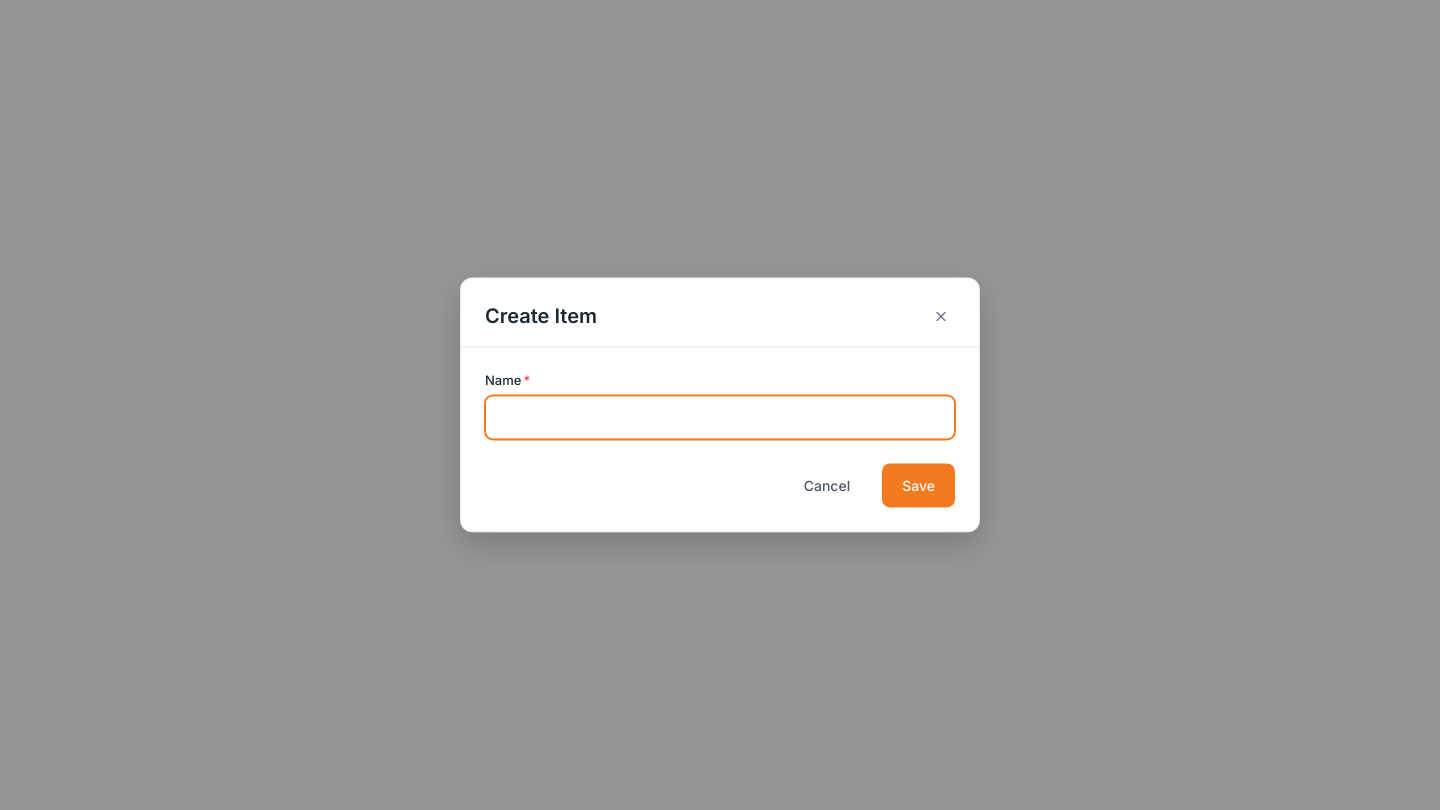
Test: FormModal › form submission › shows validation errors when submitting empty required field
Step 1. Click the button with test id "form-modal-submit" → (919, 486), box [882,464,955,508]
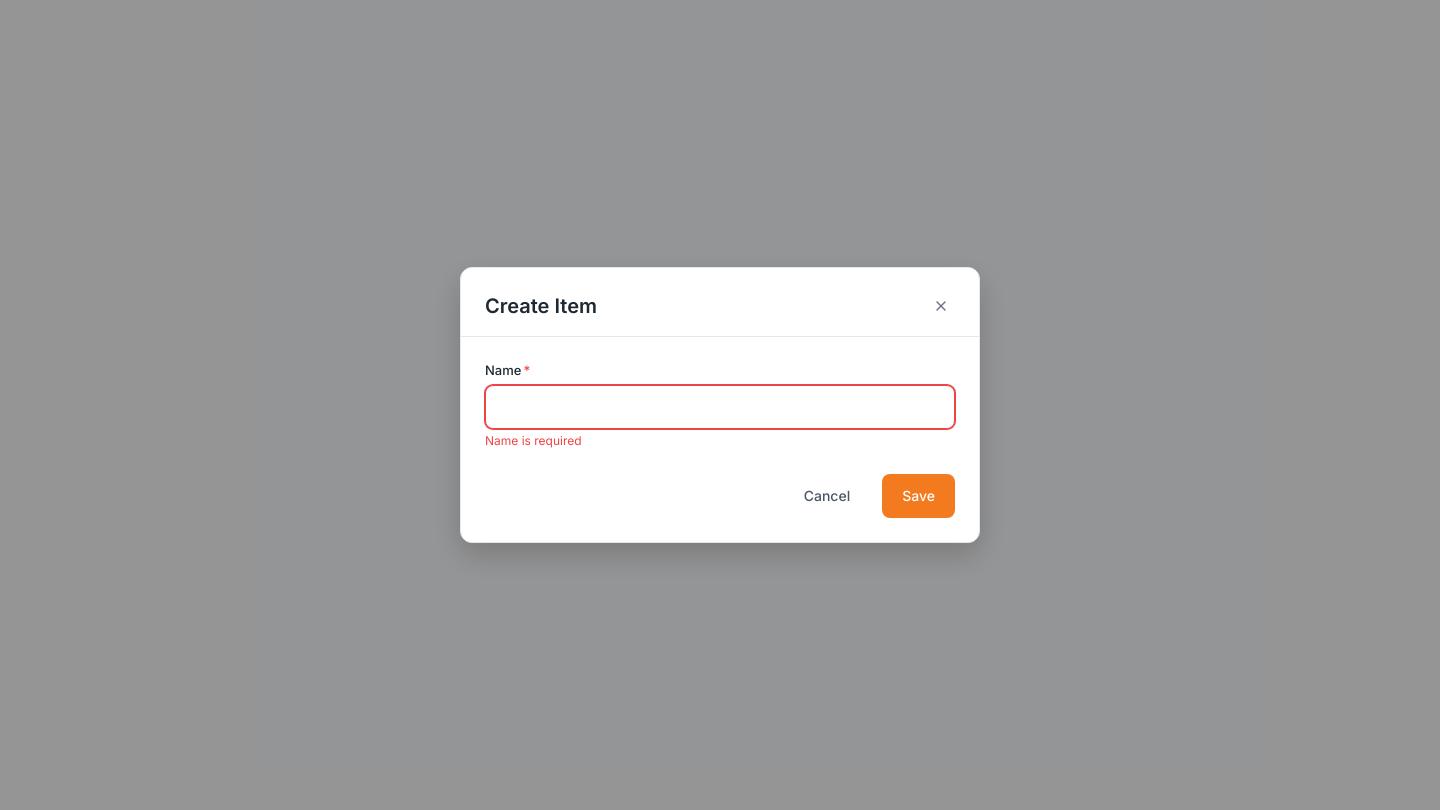
Check: the text "Name is required" is shown, box [485,433,582,448]
